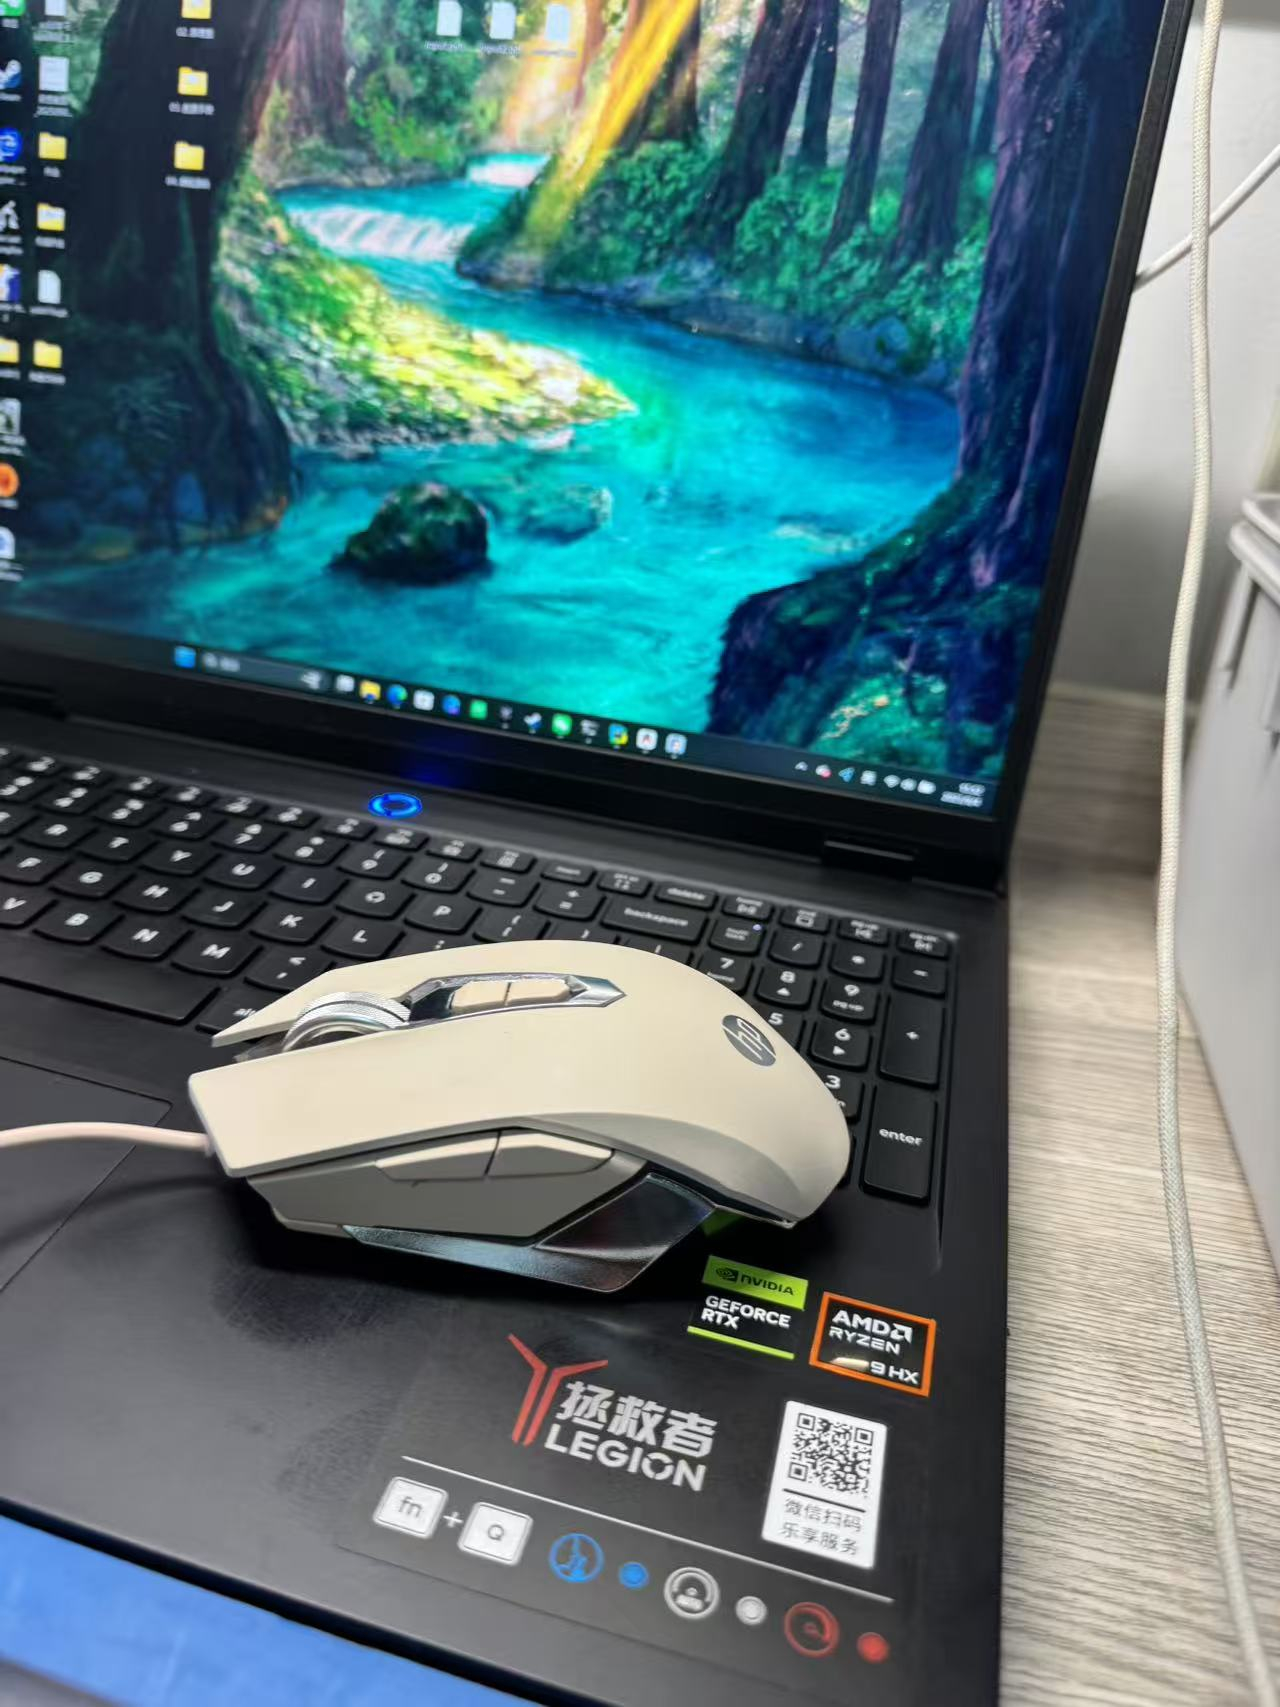mouse: (195, 866, 879, 1325)
